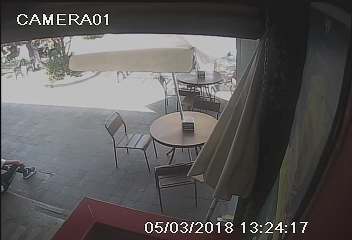libre: (106, 105, 245, 209), (155, 67, 235, 112)
